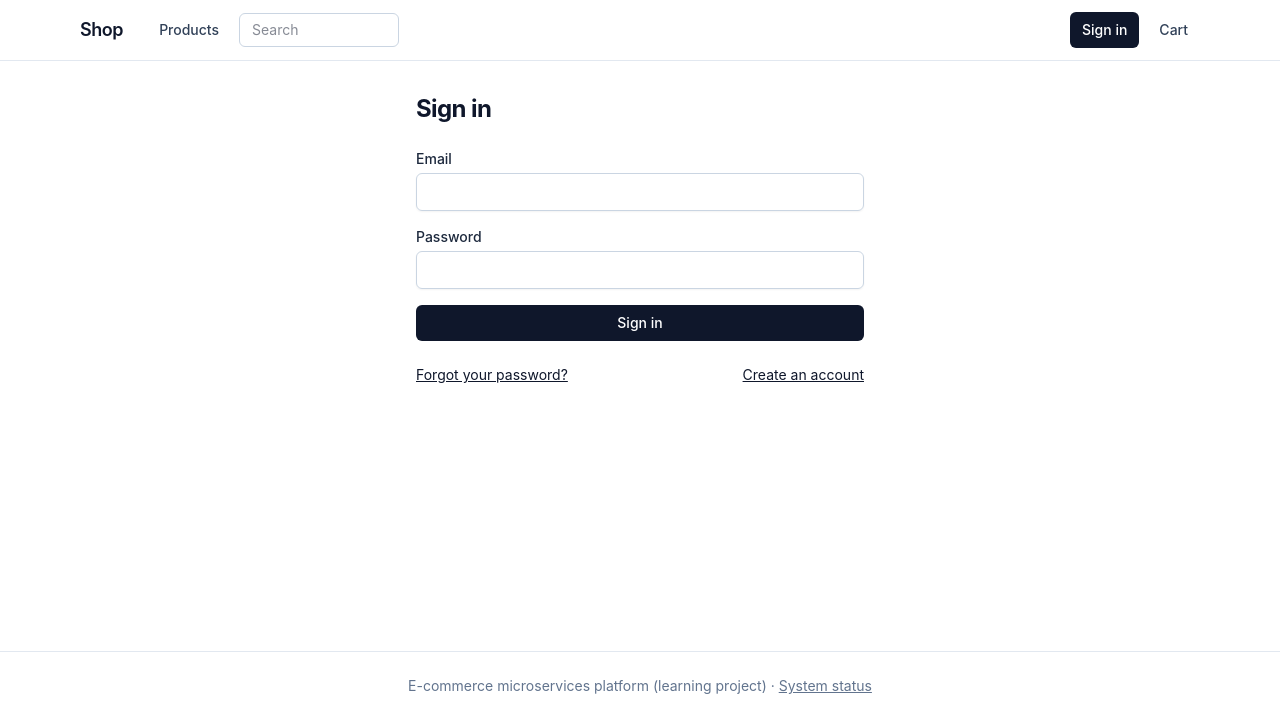
Scenario: sign in › protected pages send visitors to sign in and back afterwards
Step 1. Type "a@example.com" into the field labelled "Email" → (640, 192), box x1=416 y1=173 x2=864 y2=211
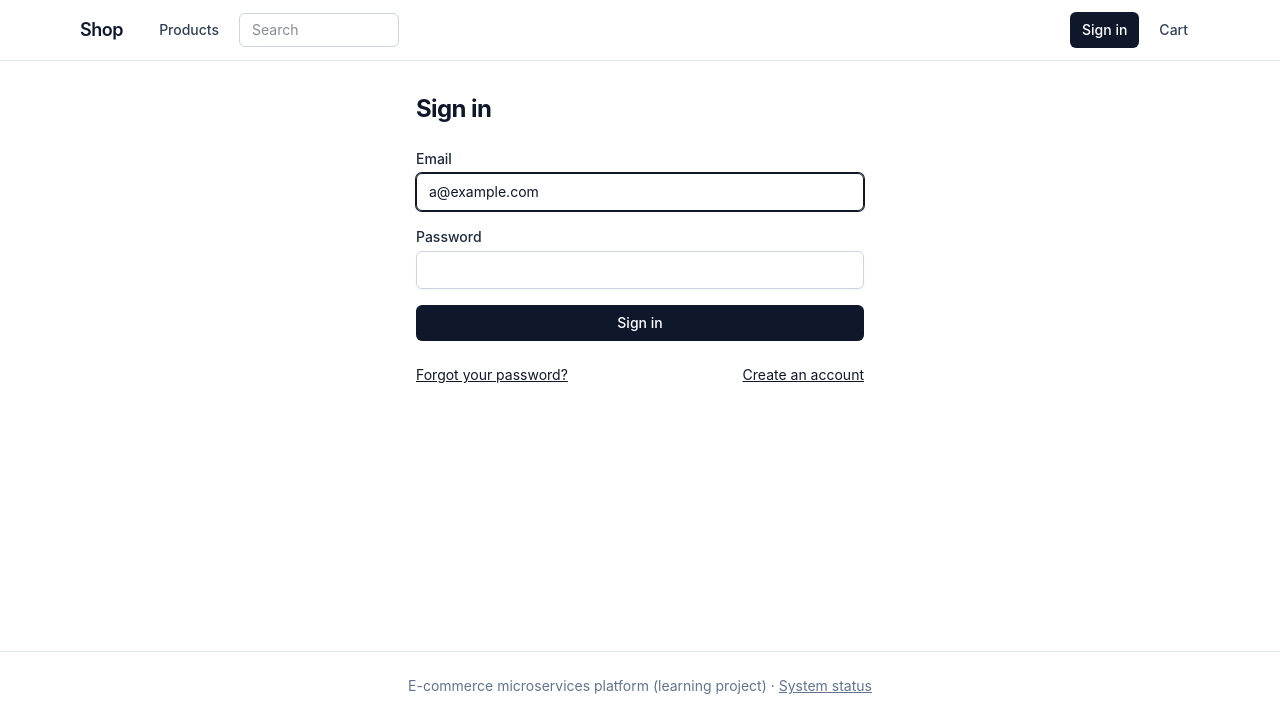
Step 2. Type "a long passphrase" into the password field labelled "Password" → (640, 270), box x1=416 y1=251 x2=864 y2=289
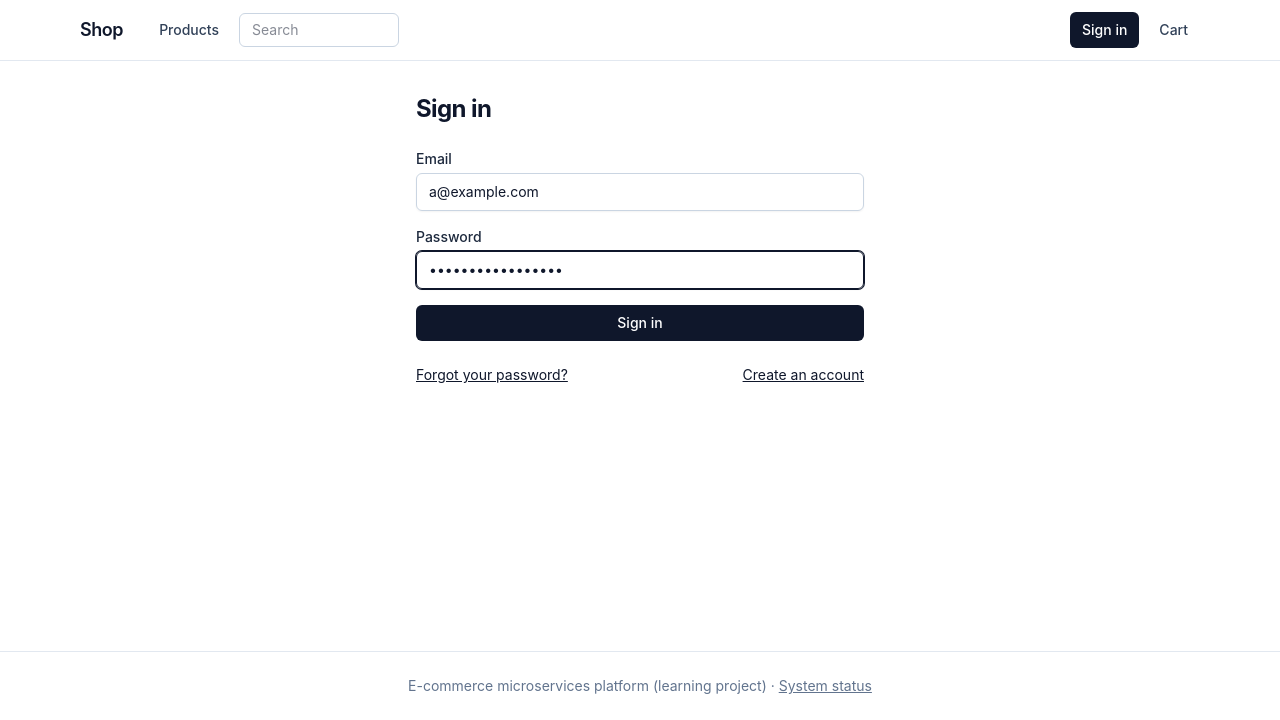
Step 3. Click the button "Sign in" → click(640, 323), box x1=416 y1=305 x2=864 y2=341
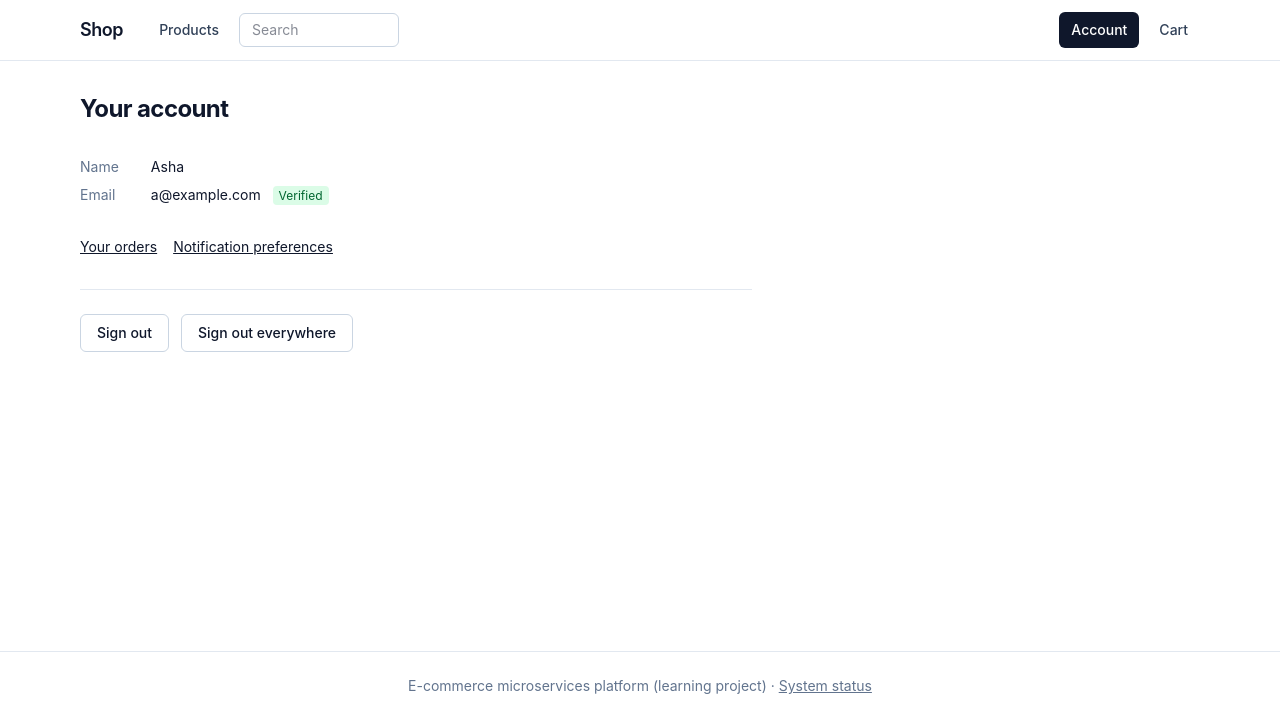
Check: the heading "Your account" is shown, box x1=80 y1=94 x2=228 y2=123
